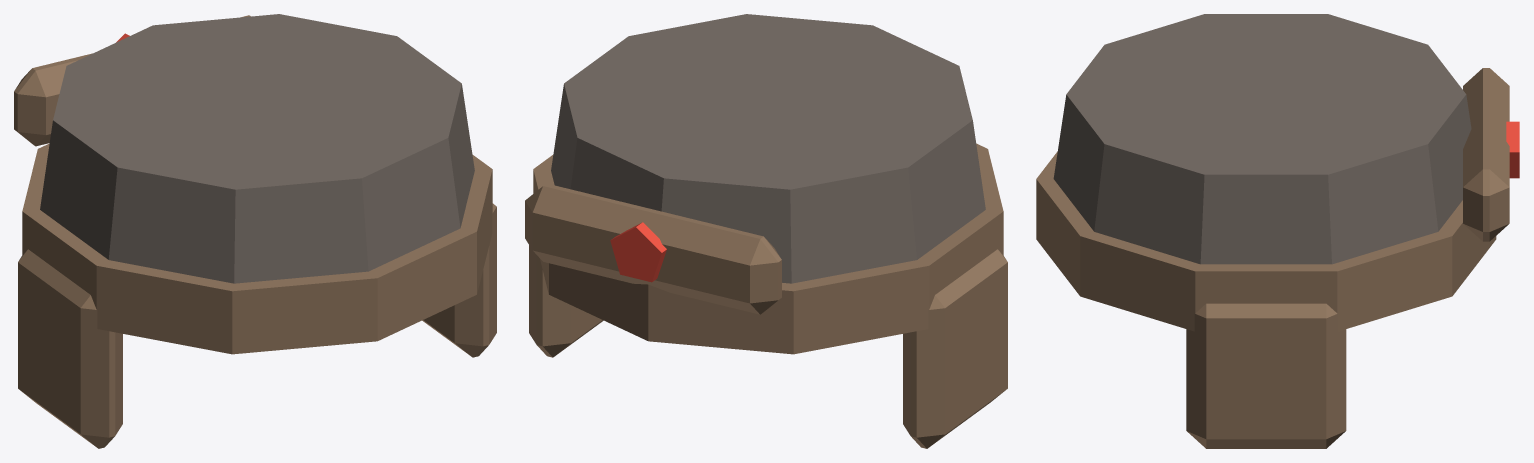
Rendered from hat_ushanka.glb.
3 views of the same model, side by side, from view 1: azimuth 30°, elevation 25°; view 2: azimuth 150°, elevation 25°; view 3: azimuth 270°, elevation 25° (orthographic). The views are drawn at different scales.
Visible parts, largest first — view 1: Head; view 2: Head; view 3: Head.
Part boxes in pixels (left/top/right/bottom): Head: left=14, top=14, right=496, bottom=448; Head: left=525, top=14, right=1007, bottom=448; Head: left=1036, top=14, right=1519, bottom=448.
Bounding box in the file's own units: 0.69 × 0.44 × 0.725.
